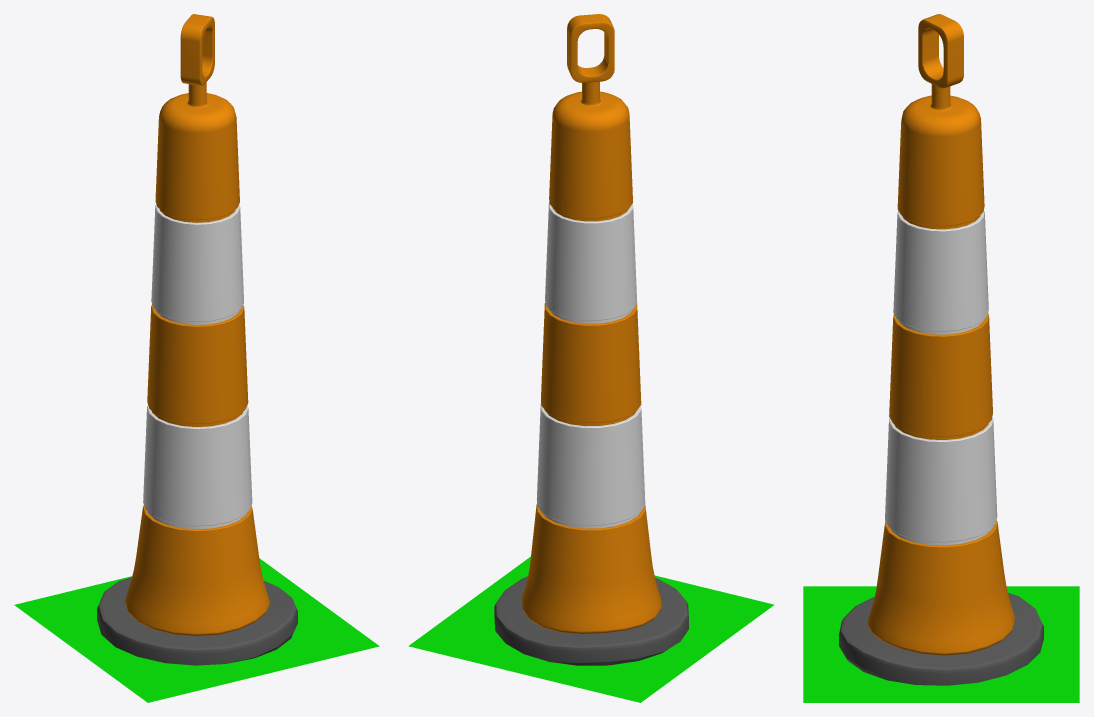
Rendered from koneLight.fbx.
3 renders of one model, left to right at view 1: azimuth 30°, elevation 25°; view 2: azimuth 150°, elevation 25°; view 3: azimuth 270°, elevation 25°, orthographic. The views are drawn at different scales.
Parts seen in each view (by area): view 1: KoneLight, decal_shdw; view 2: KoneLight, decal_shdw; view 3: KoneLight, decal_shdw.
Boxes of the visible parts, <box> form: KoneLight: <box>97,14,297,665</box>; decal_shdw: <box>14,558,379,702</box>; KoneLight: <box>494,14,688,665</box>; decal_shdw: <box>408,556,774,702</box>; KoneLight: <box>839,14,1043,685</box>; decal_shdw: <box>803,586,1079,702</box>.
Size of the model in its own units: 43.64 by 109 by 43.64.
